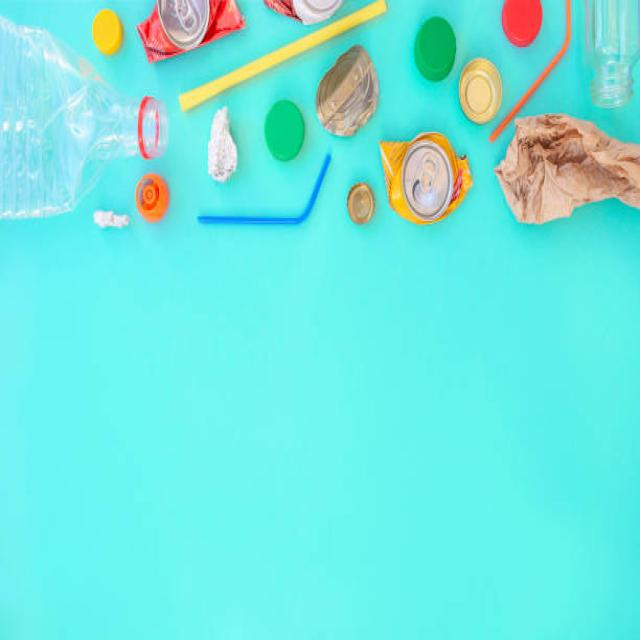metal: (343, 136, 481, 228)
paper: (509, 137, 613, 221)
plastic: (1, 8, 185, 245), (195, 185, 332, 260)
